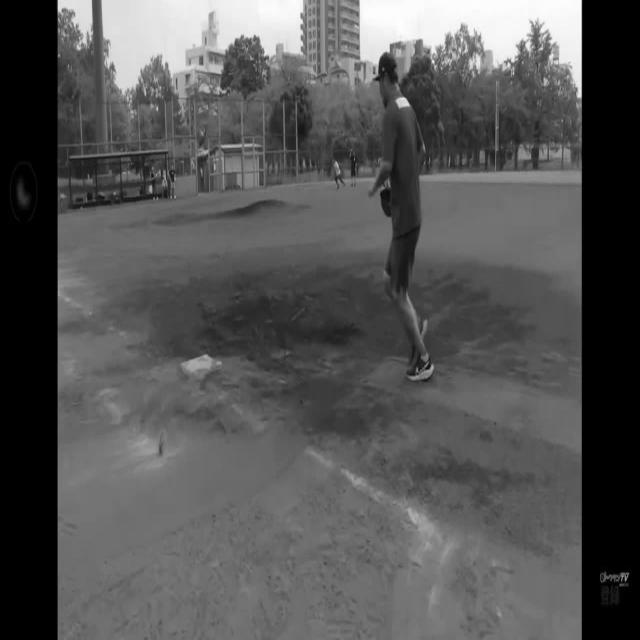base: (178, 350, 228, 380)
baseball_glove: (380, 184, 398, 224)
shoe: (406, 322, 430, 368), (406, 356, 434, 384)
